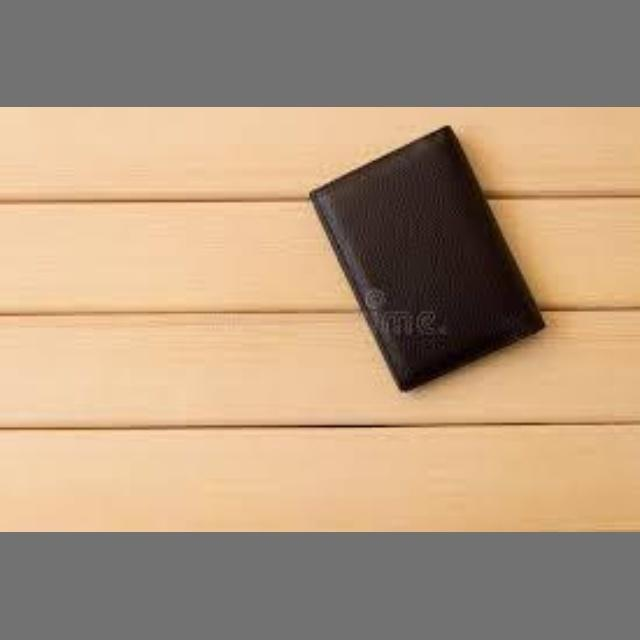Wallet: (287, 119, 598, 389)
